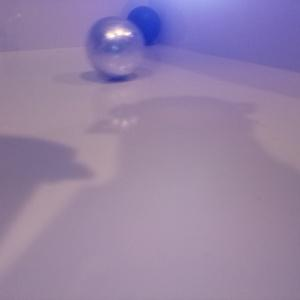alive_ball: (86, 16, 144, 78)
dead_ball: (125, 7, 160, 44)
